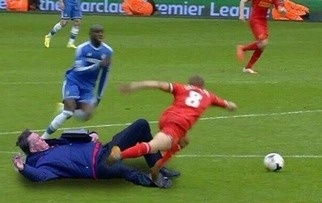falling: (8, 114, 176, 191)
